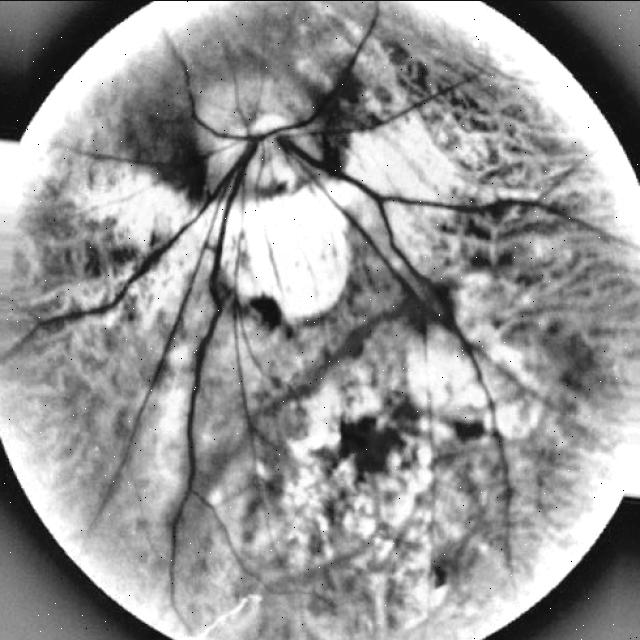Macula: (329, 405, 403, 489)
Nerves: (8, 128, 251, 343), (285, 137, 607, 289), (256, 1, 383, 134)
Optic Disk: (197, 67, 326, 194)
